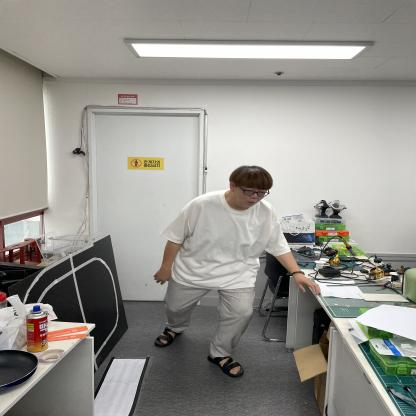normal: (149, 164, 317, 378)
